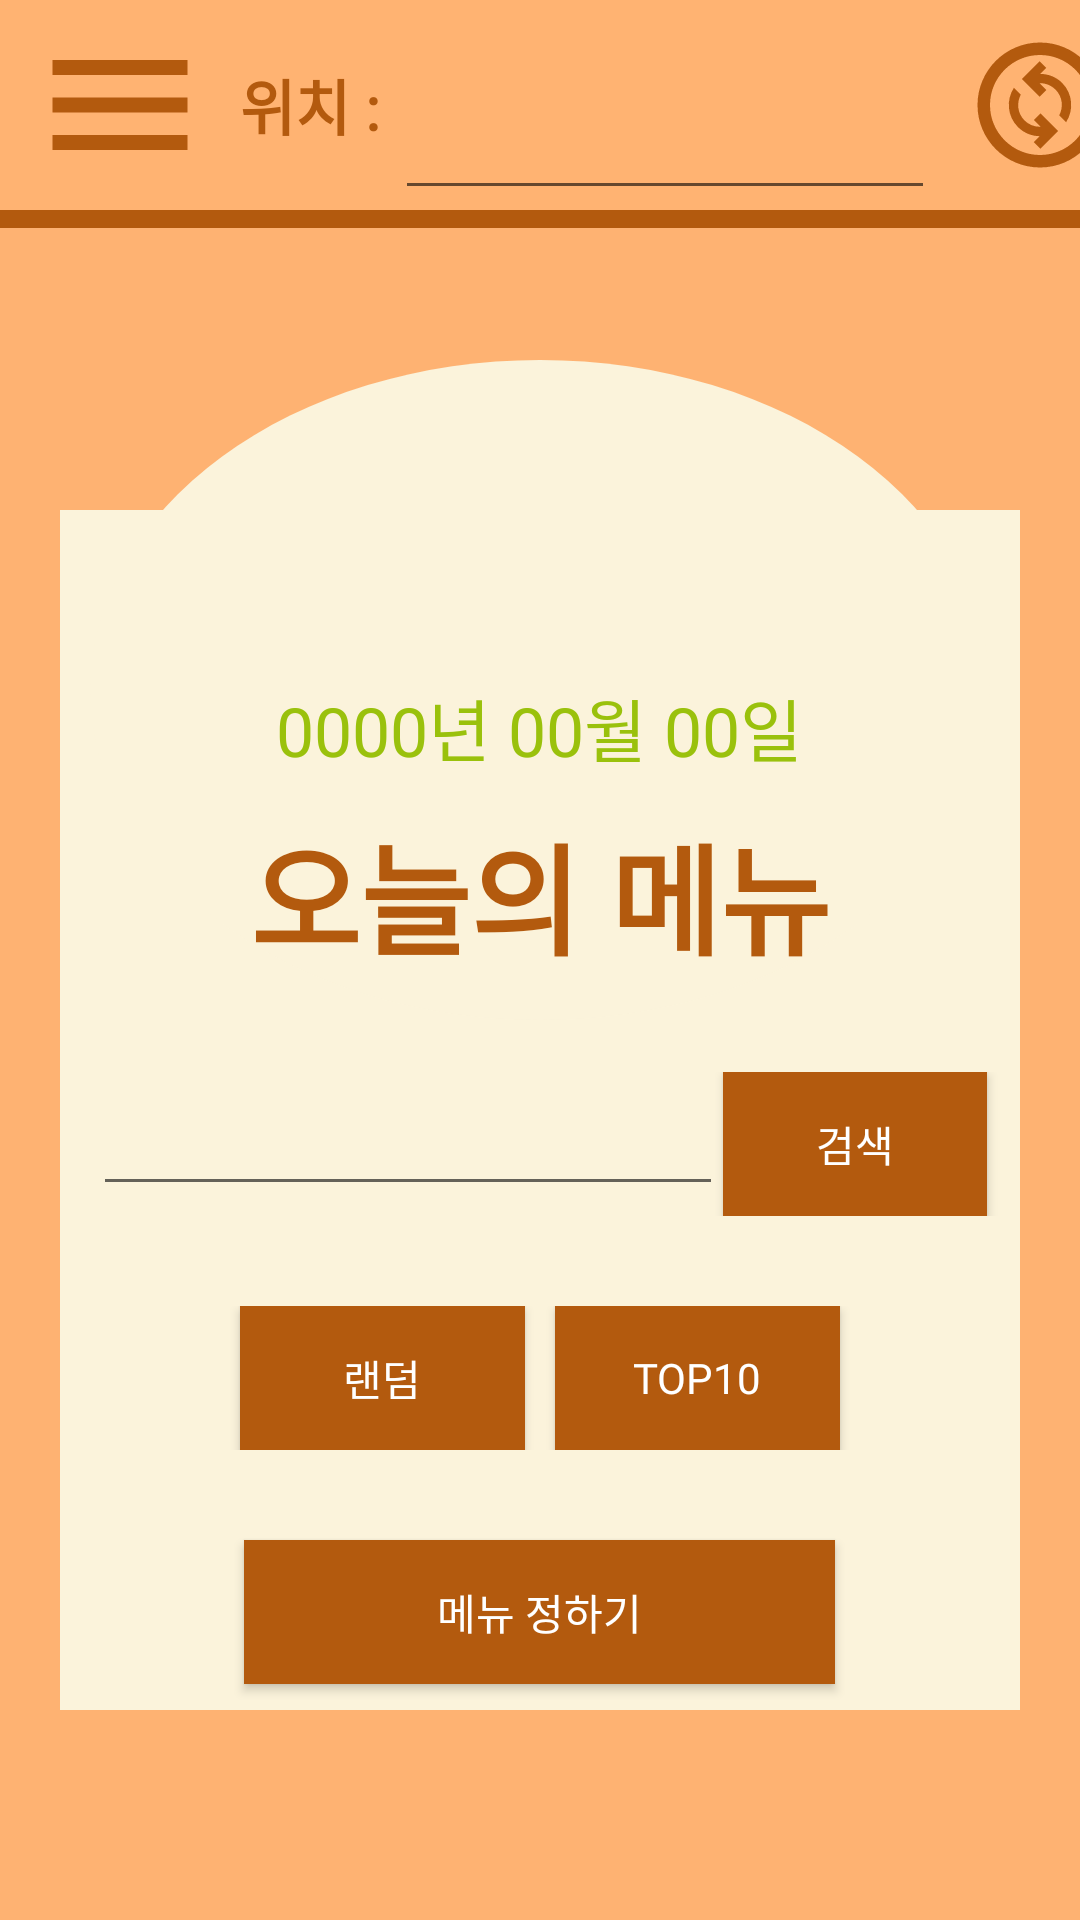

Point at icon controls on the screen. Image size 1080 x 1920, points as (x=x, y=y).
menu: (x=120, y=105)
